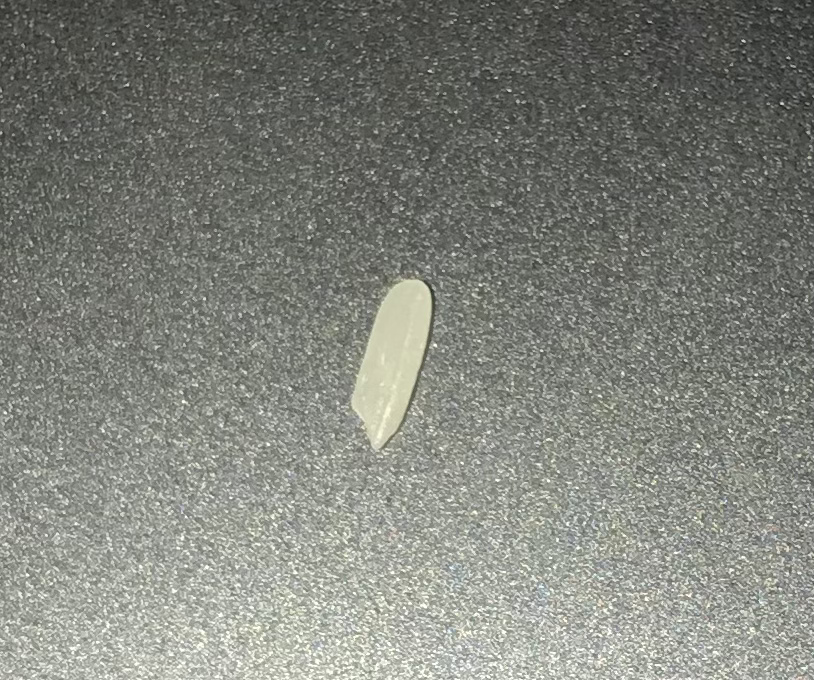Gao Tam Thom: (342, 254, 449, 471)
